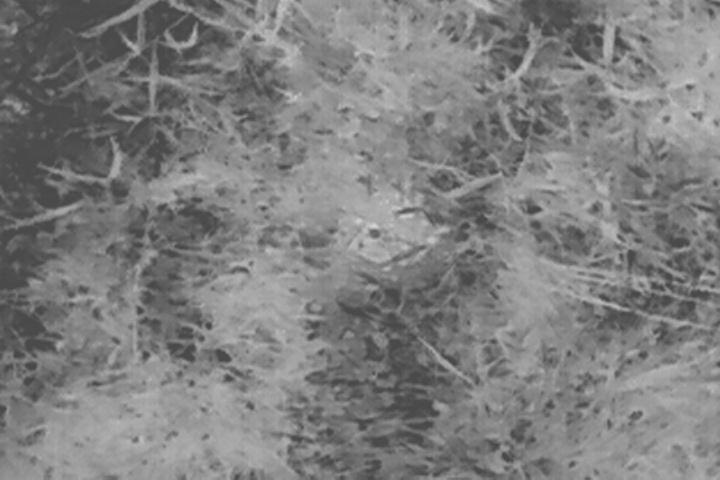landmine: (326, 161, 462, 276)
